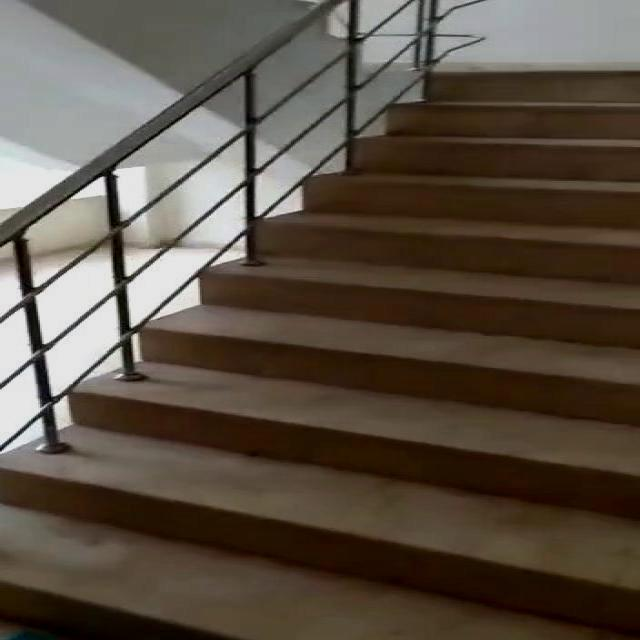stair: (17, 66, 640, 640)
